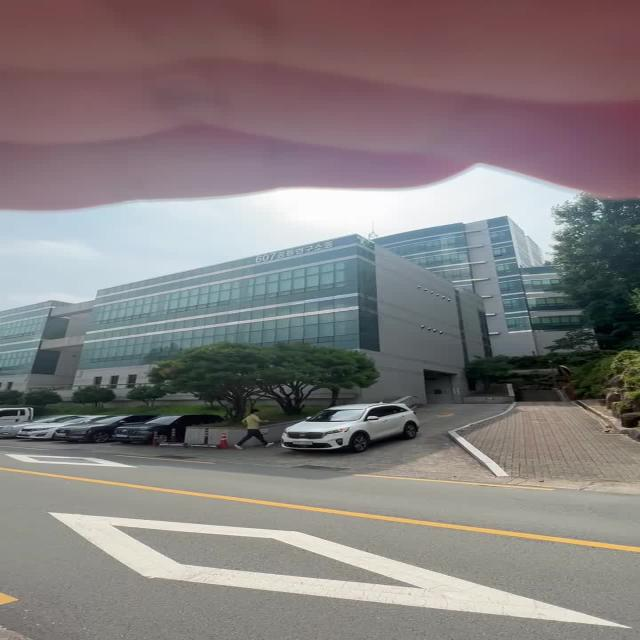building: (25, 217, 569, 354)
